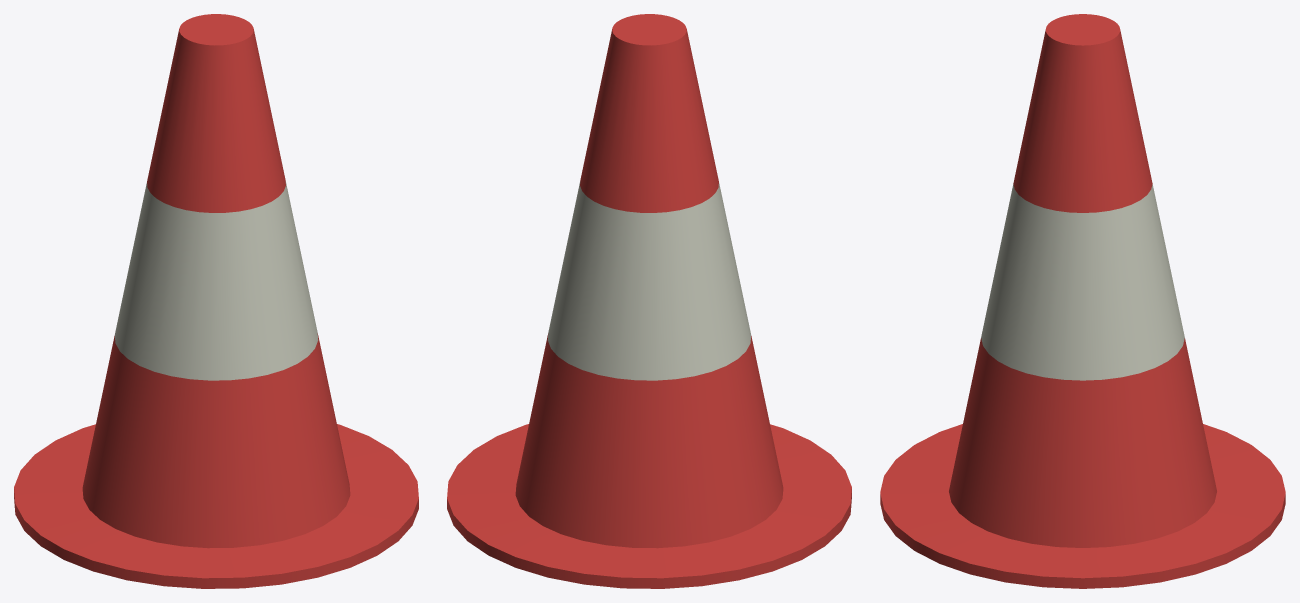
The picture shows the model from 3 angles, left to right: view 1: azimuth 30°, elevation 25°; view 2: azimuth 150°, elevation 25°; view 3: azimuth 270°, elevation 25°; orthographic projection.
Parts seen in each view (by area): view 1: Cone; view 2: Cone; view 3: Cone.
Part boxes in pixels (x1,y1,x2,y2): Cone: [14, 14, 418, 588]; Cone: [447, 14, 851, 588]; Cone: [880, 14, 1285, 588].
Bounding box in the file's own units: 0.6328 × 0.815 × 0.6328.
